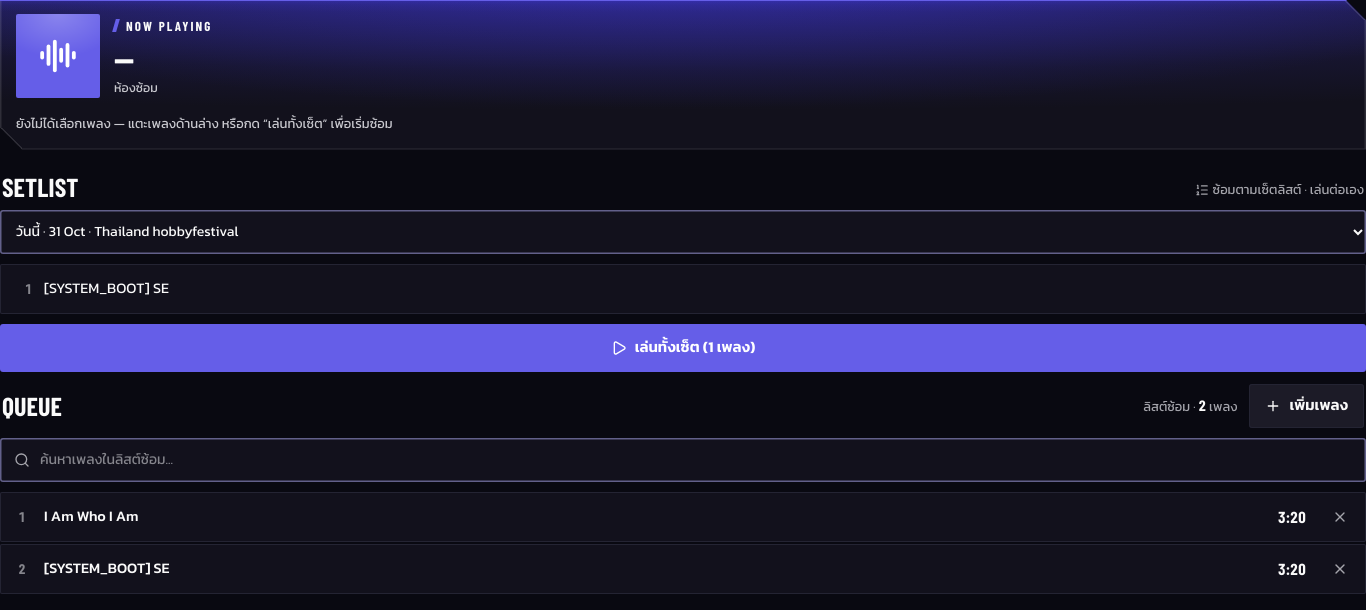
Test case: PracticePlayer — a wait whose next song is edited away › the song that ended moved to the bottom in the wait: the set ends the same way
This screenshot has width=1366, height=610.
Expected: the button "เล่นทั้งเซ็ต (1 เพลง)" is shown, [0,324,1365,372]
Select "เซ็ตของห้องนี้ (สร้างเอง) · 2 เพลง" in the dropdown named "เลือกงานที่จะซ้อม" at (683, 232), box [0,210,1365,254]
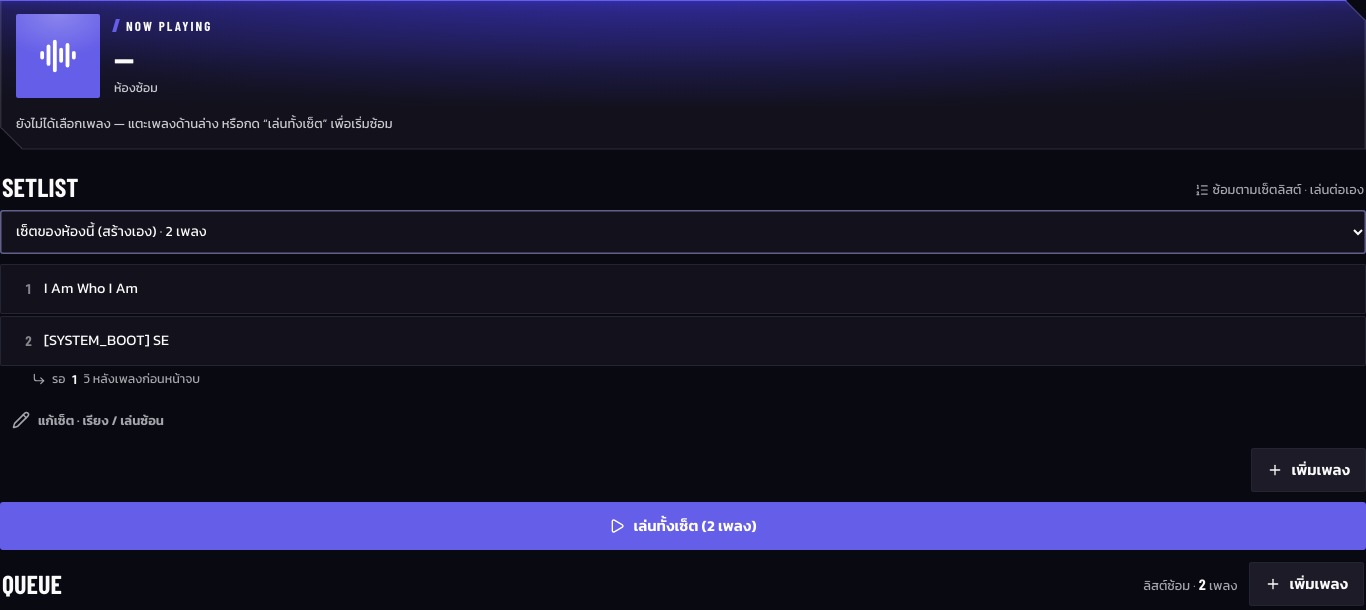
Click the button "เล่นทั้งเซ็ต (2 เพลง)" at (683, 526), box [0,502,1365,550]
(page scrolled)
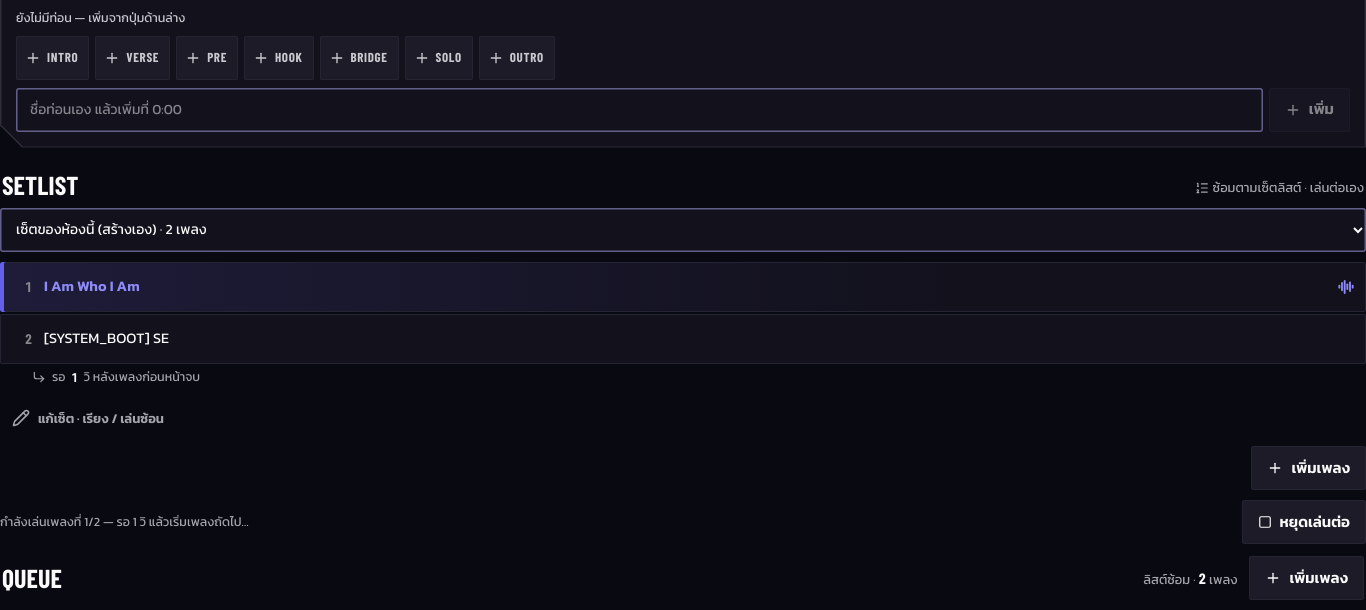
Now the text "กำลังเล่นเพลงที่ 1/2 — รอ 1 วิ แล้วเริ่มเพลงถัดไป…" is shown, box [0,513,249,532]
Click the button "แก้เซ็ต · เรียง / เล่นซ้อน" at (88, 418), box [0,400,176,436]
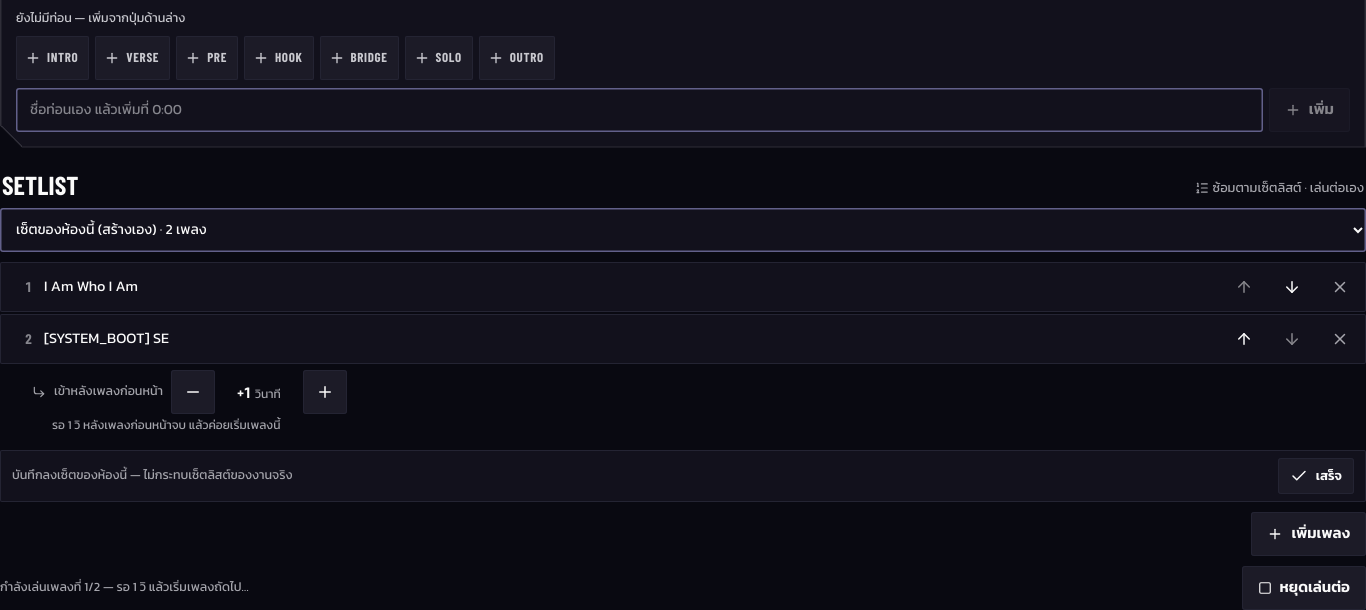
Click the button named "เลื่อนลง · I Am Who I Am" at (1292, 286), box [1270,264,1314,308]
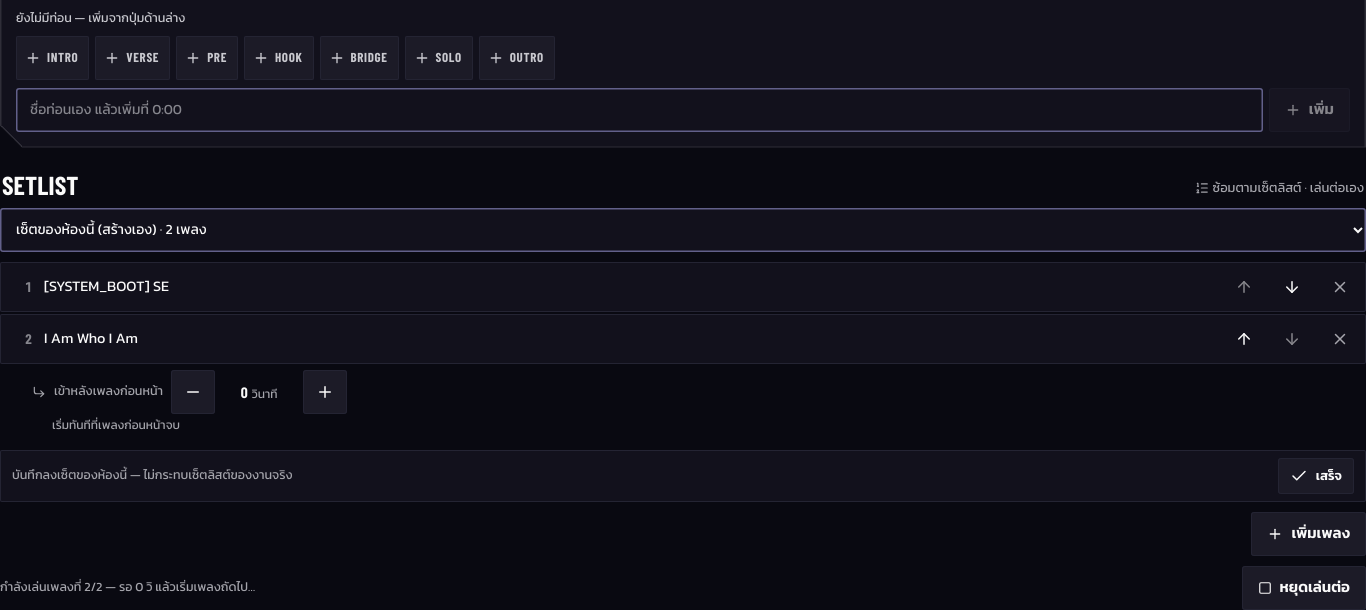
Click the button "เสร็จ" at (1316, 476), box [1278,458,1354,494]
(page scrolled)
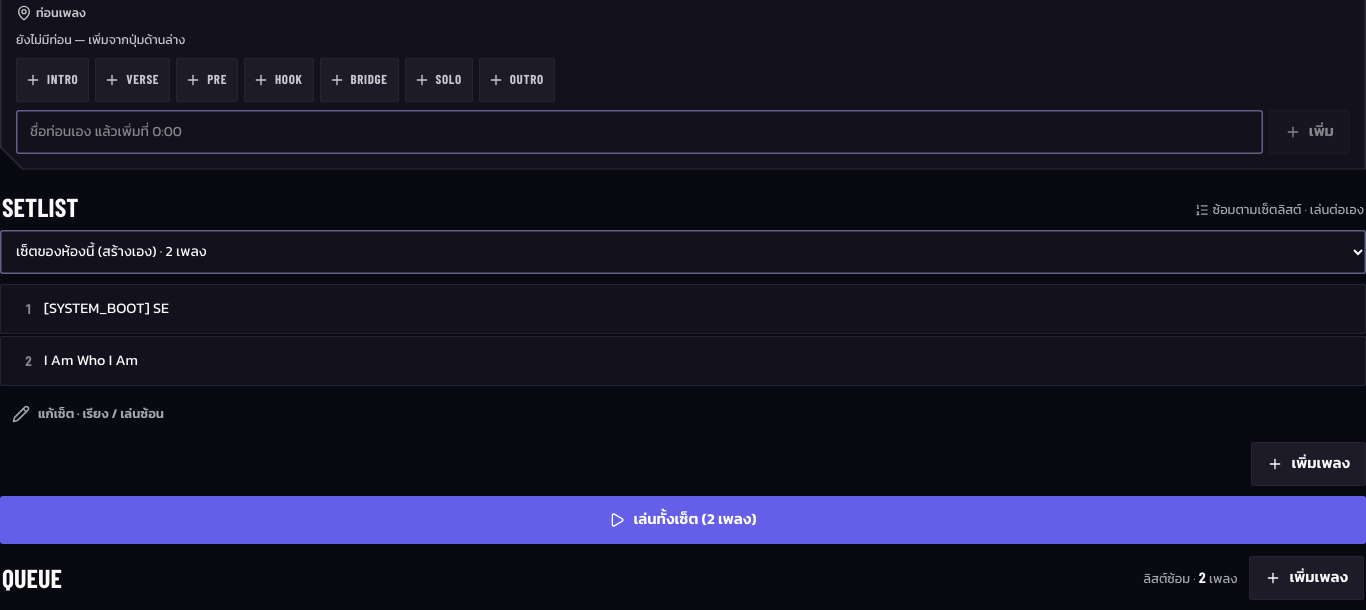
Now the button "หยุดเล่นต่อ" is gone
Now the button "เล่นทั้งเซ็ต (2 เพลง)" is shown, box [0,496,1365,544]
